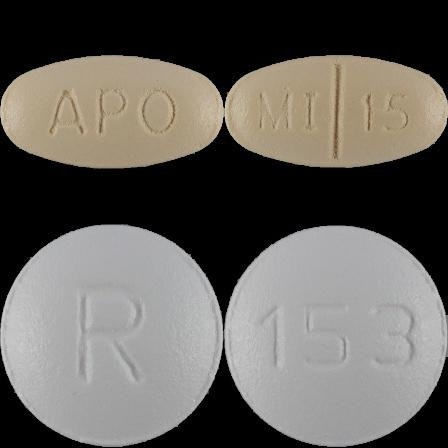0904-6519: (0, 0, 224, 224)
